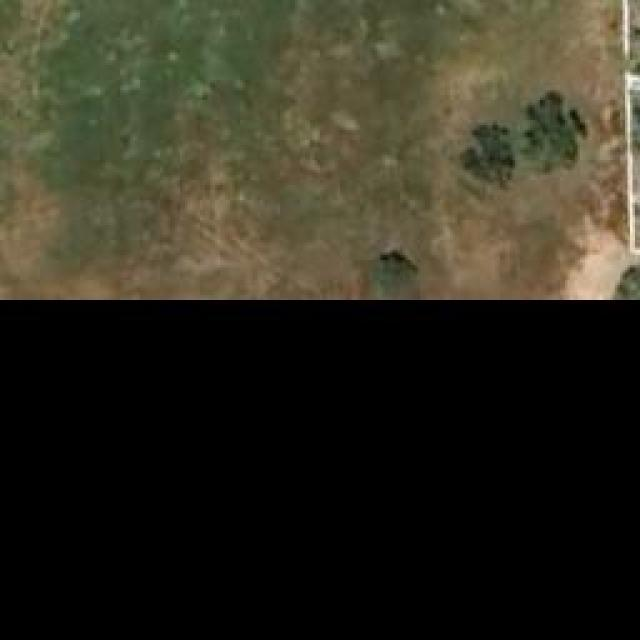Tree: (520, 93, 588, 173), (450, 123, 515, 193), (373, 248, 418, 293), (612, 260, 640, 298)
